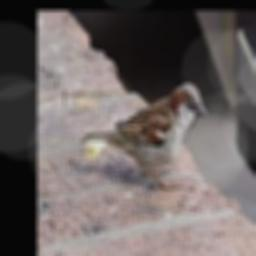Sparrow: (81, 82, 208, 188)
